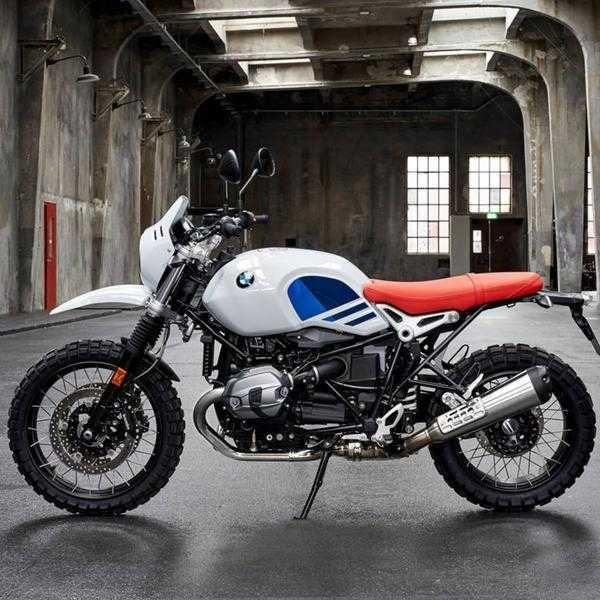motorbike: (10, 196, 595, 520)
